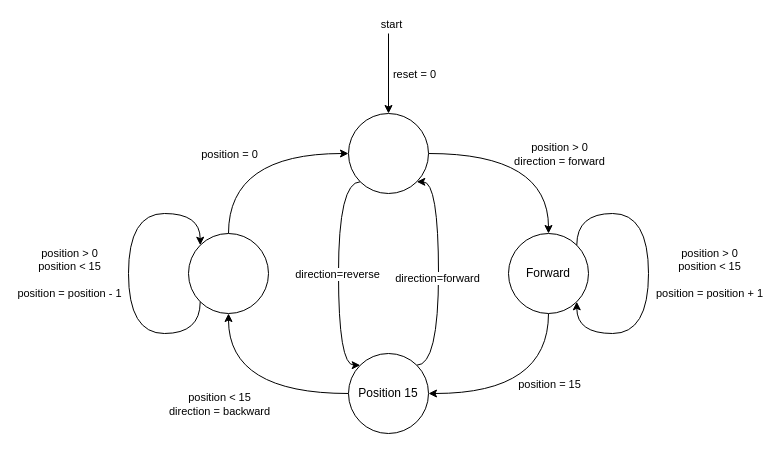
Image size: 780x451. Some labels were removed from this diagram. The shapes that lost their labels are listed below. From the top down, each one's centre as x and y in pixels, then its label:
At point (388, 153): "Position 0".
At point (228, 273): "Reverse".
